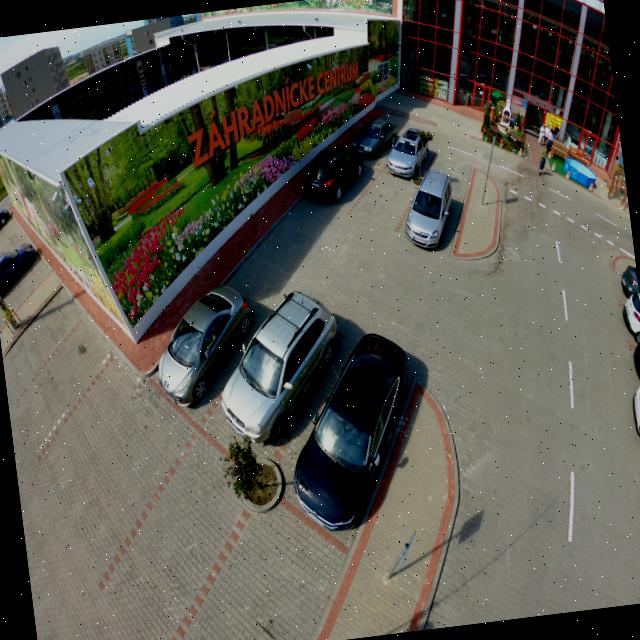empty: (124, 479, 232, 624), (220, 508, 330, 636), (60, 409, 172, 524), (20, 350, 110, 436), (363, 165, 408, 231), (18, 318, 66, 356), (436, 128, 468, 174)
occupied: (290, 338, 438, 530), (225, 284, 352, 456), (147, 284, 256, 402), (406, 165, 464, 248), (304, 135, 369, 204), (383, 121, 440, 177), (358, 116, 396, 162)
